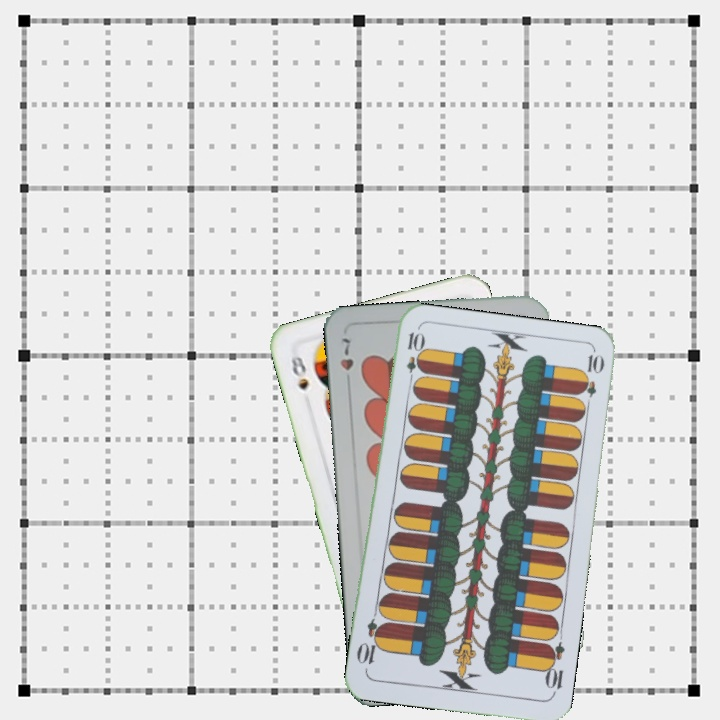E10: (540, 639, 567, 698), (402, 328, 423, 387)
H7: (336, 334, 356, 390)
S8: (287, 352, 312, 393)
